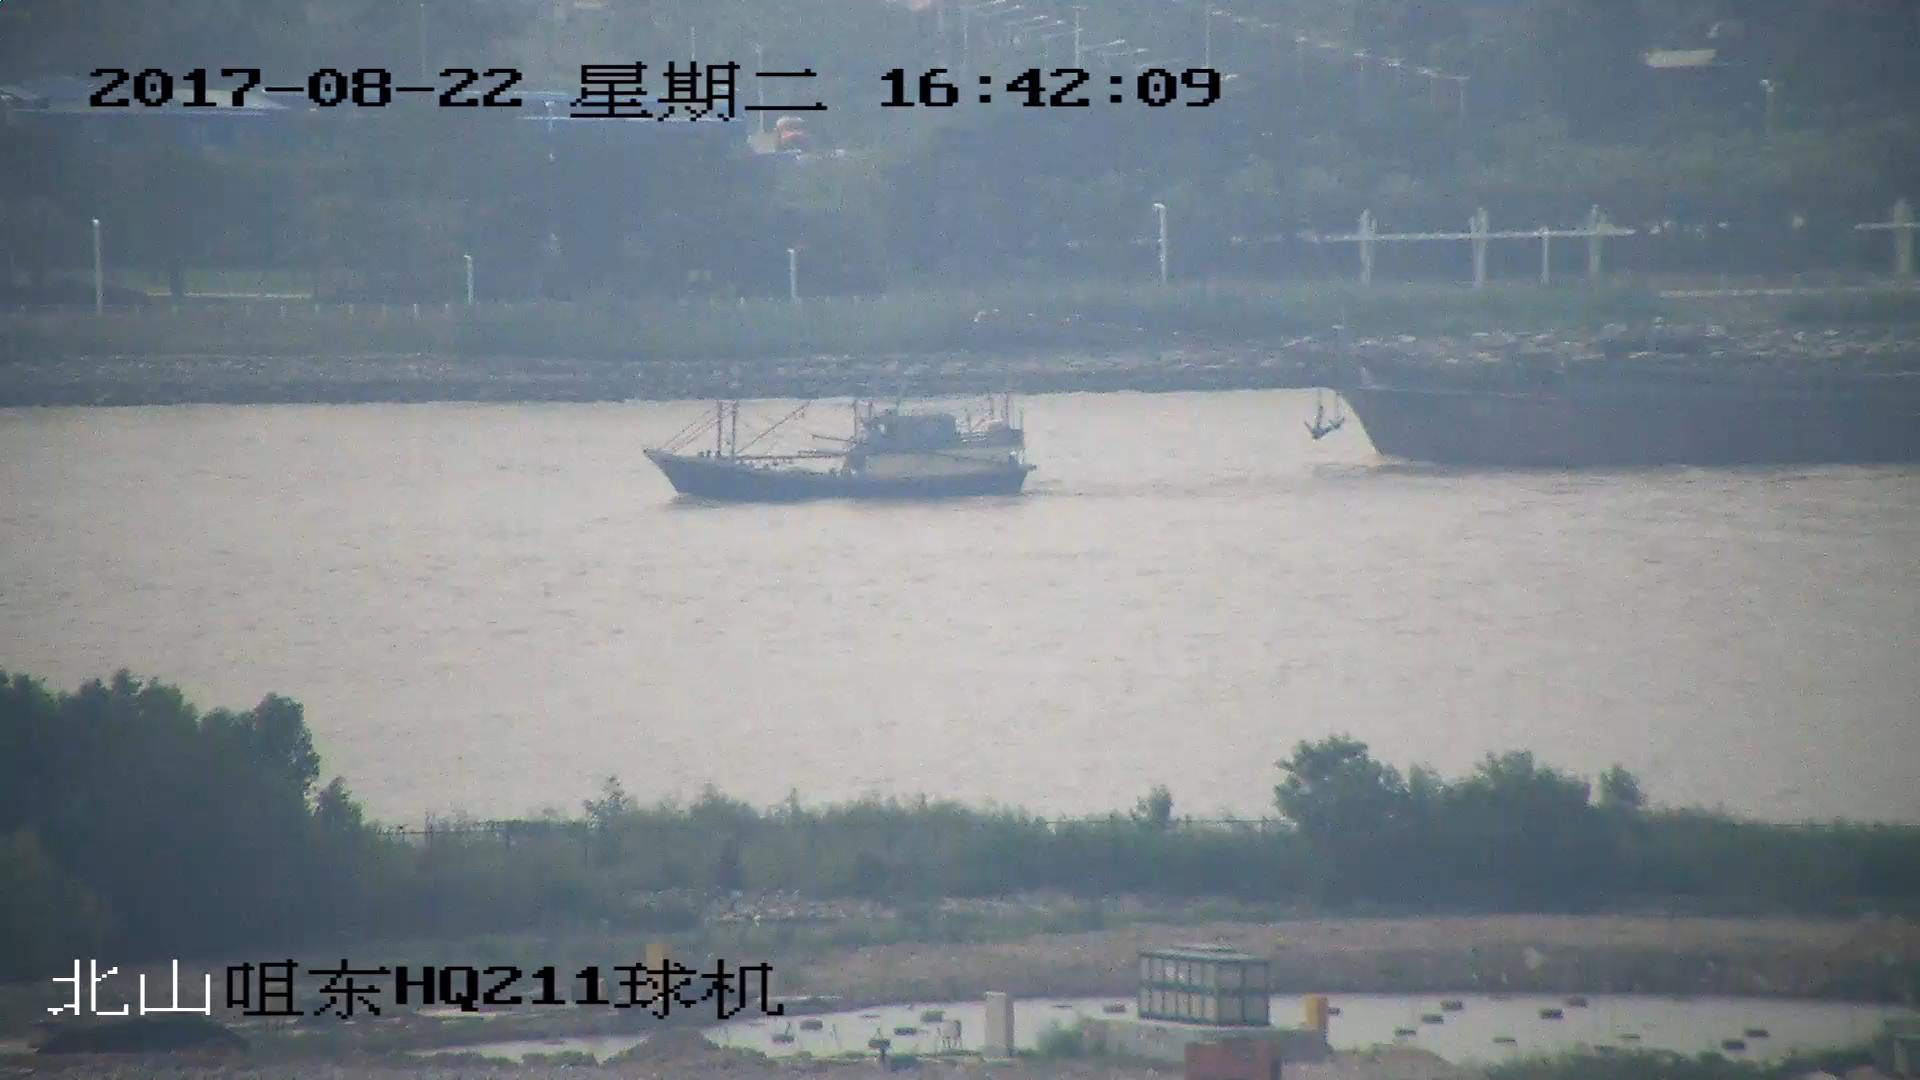bulk cargo carrier: (985, 307, 1920, 466)
fishing boat: (636, 388, 1033, 501)
